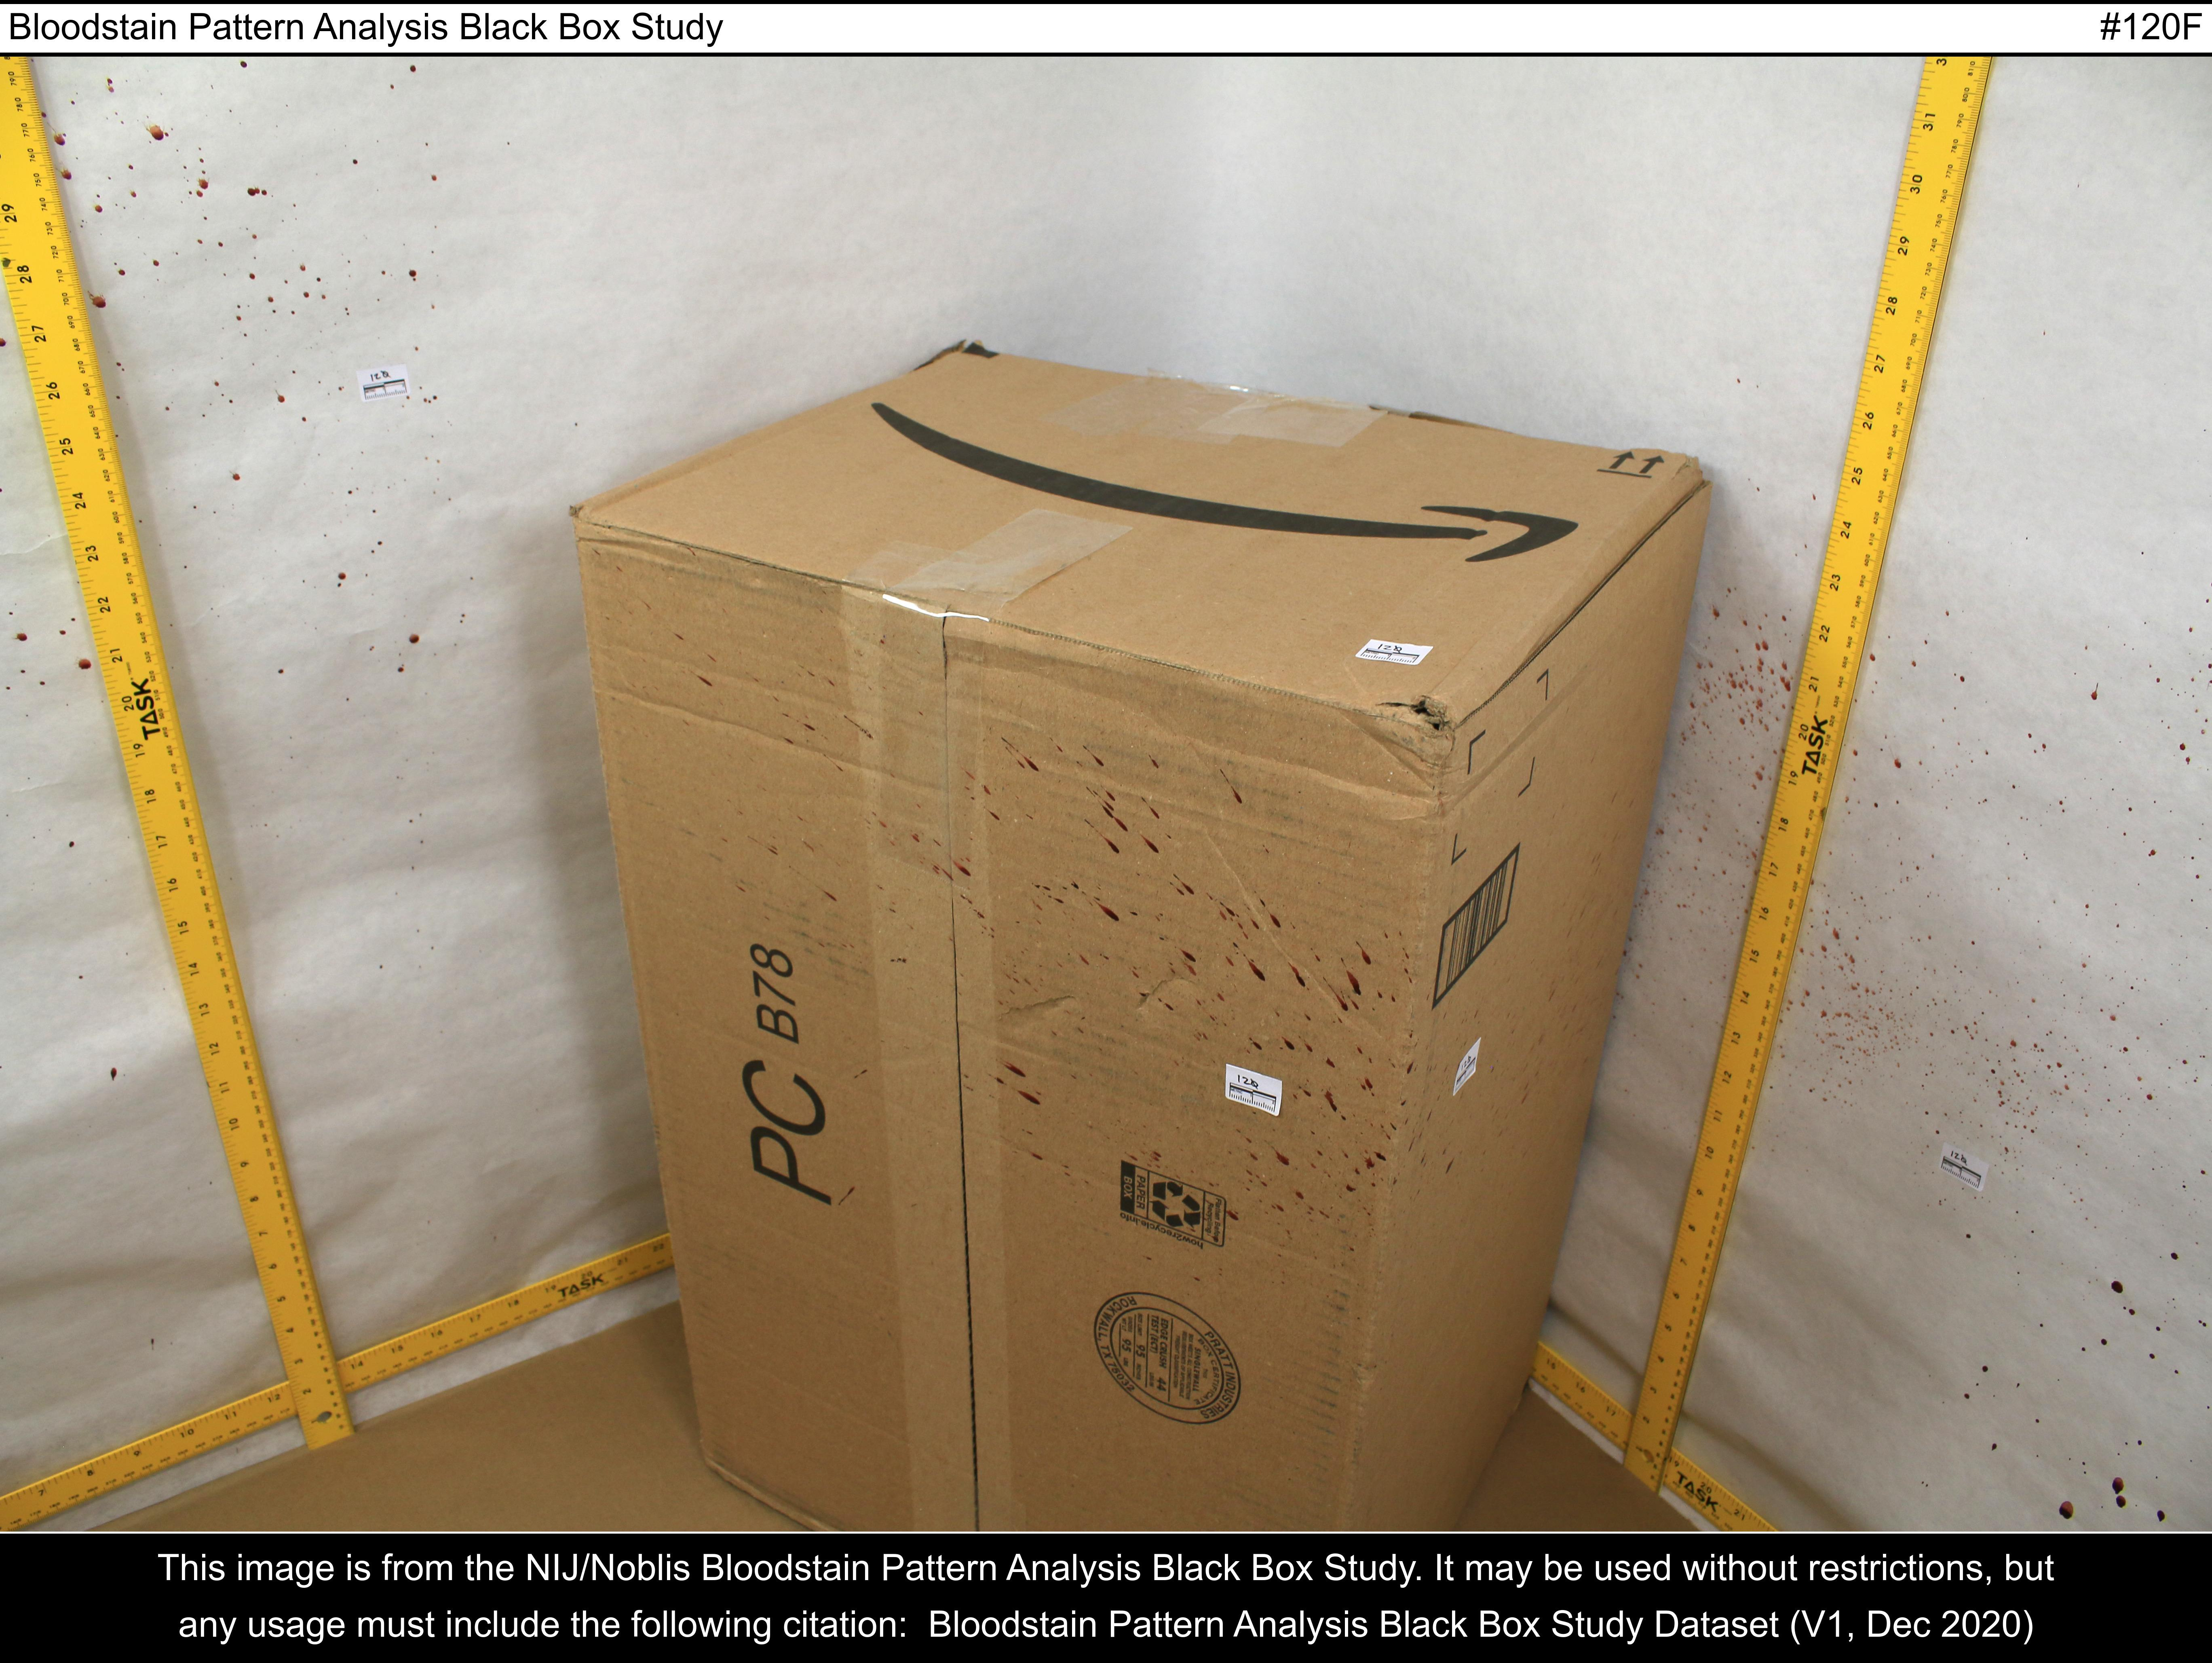Impact: (1666, 589, 2212, 1528), (5, 91, 512, 718), (992, 727, 1435, 1251)
